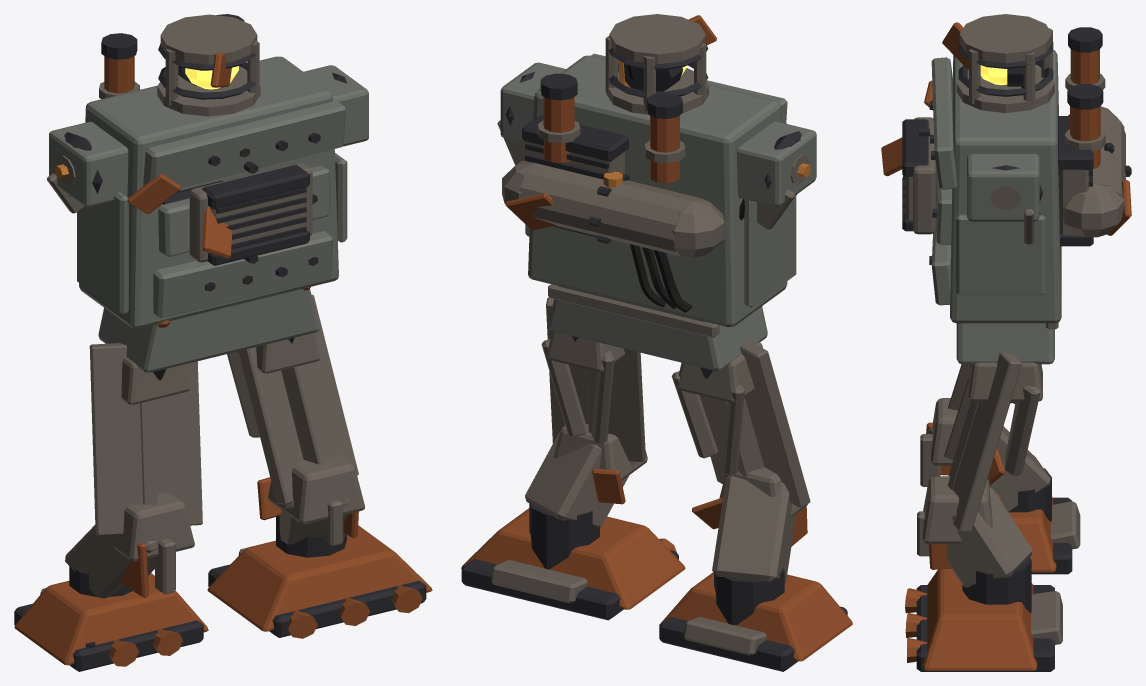
File: ch_dredge.glb
3 renders of one model, left to right at view 1: azimuth 30°, elevation 25°; view 2: azimuth 150°, elevation 25°; view 3: azimuth 270°, elevation 25°, orthographic. The views are drawn at different scales.
Parts seen in each view (by area): view 1: ch_dredge, limb_leg_l, limb_leg_r; view 2: ch_dredge, limb_leg_l, limb_leg_r; view 3: ch_dredge, limb_leg_r, limb_leg_l.
Boxes of the visible parts, x1,y1,x2,y2 form: ch_dredge: (47, 14, 368, 372); limb_leg_l: (14, 343, 208, 671); limb_leg_r: (207, 294, 432, 638); ch_dredge: (497, 14, 816, 370); limb_leg_l: (659, 339, 852, 671); limb_leg_r: (461, 297, 685, 620); ch_dredge: (881, 14, 1131, 364); limb_leg_r: (905, 352, 1062, 671); limb_leg_l: (920, 364, 1080, 574).
Size of the model in its own units: 0.471 by 0.7416 by 0.2998.
